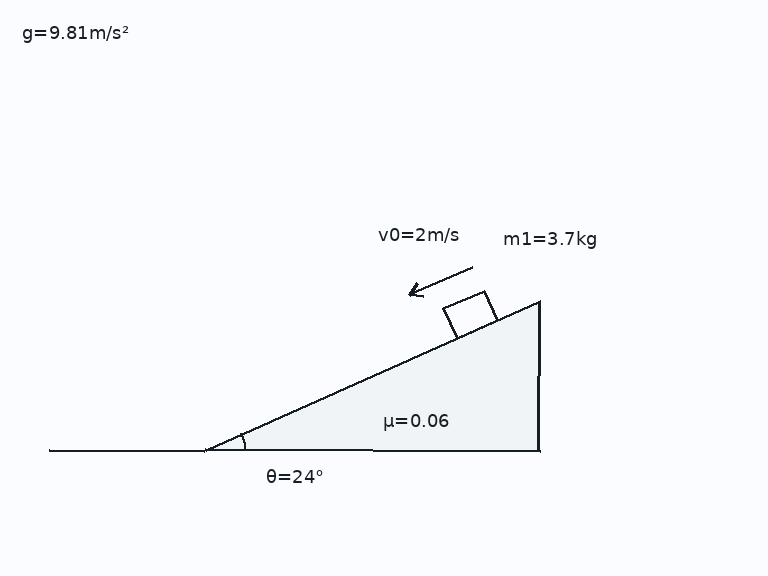block: (442, 288, 499, 340)
ramp: (203, 299, 541, 452)
